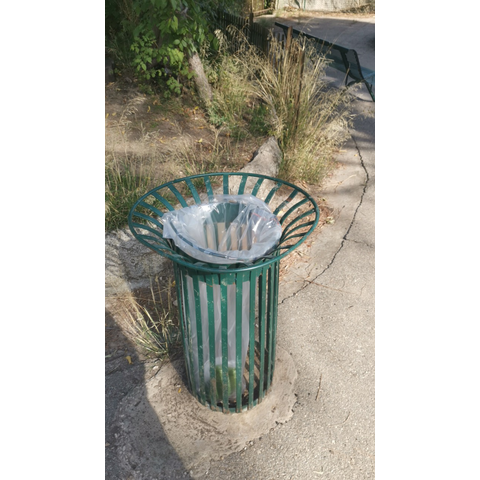poubelle: (125, 169, 330, 414)
